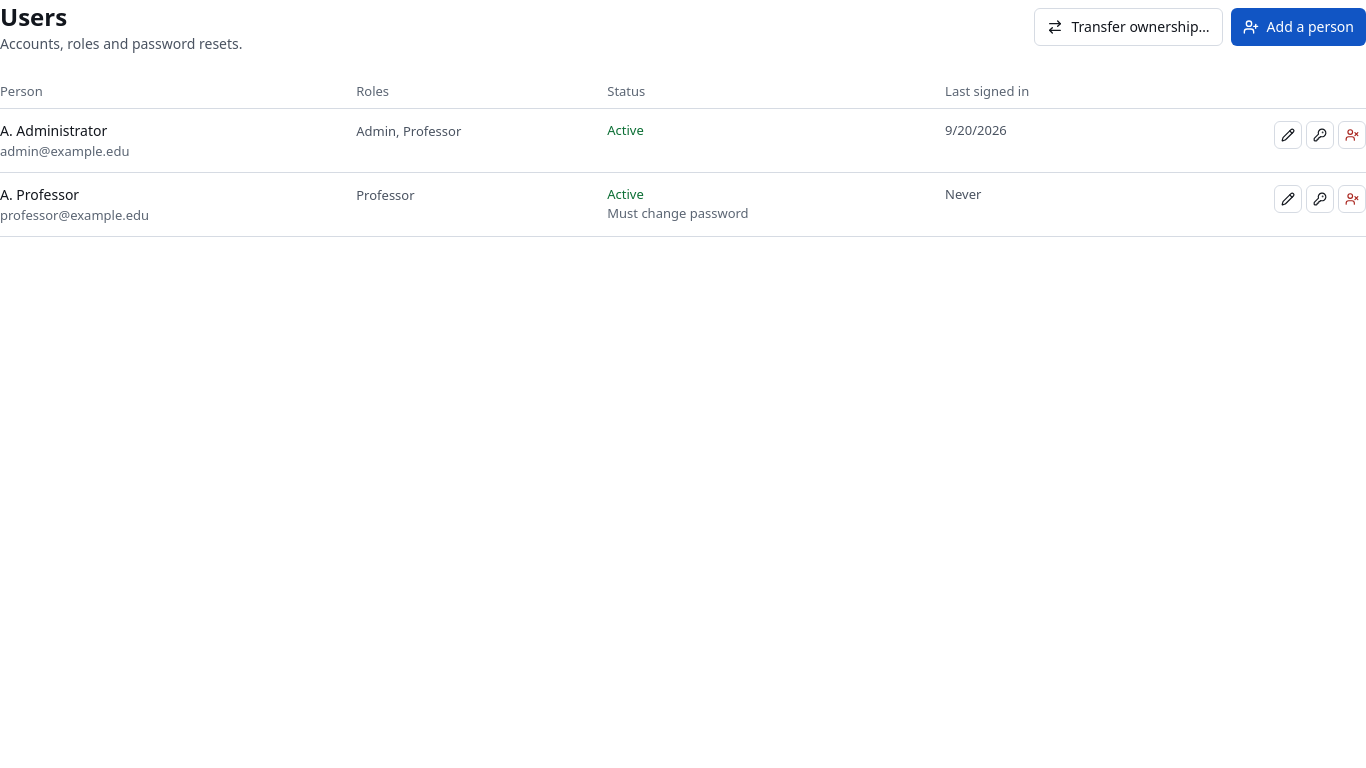
Scenario: the shell proxy as the only transport (R78, F9) › previews and commits an ownership transfer
Click the button "Transfer ownership…": x=1129, y=27 [1034,8,1223,46]
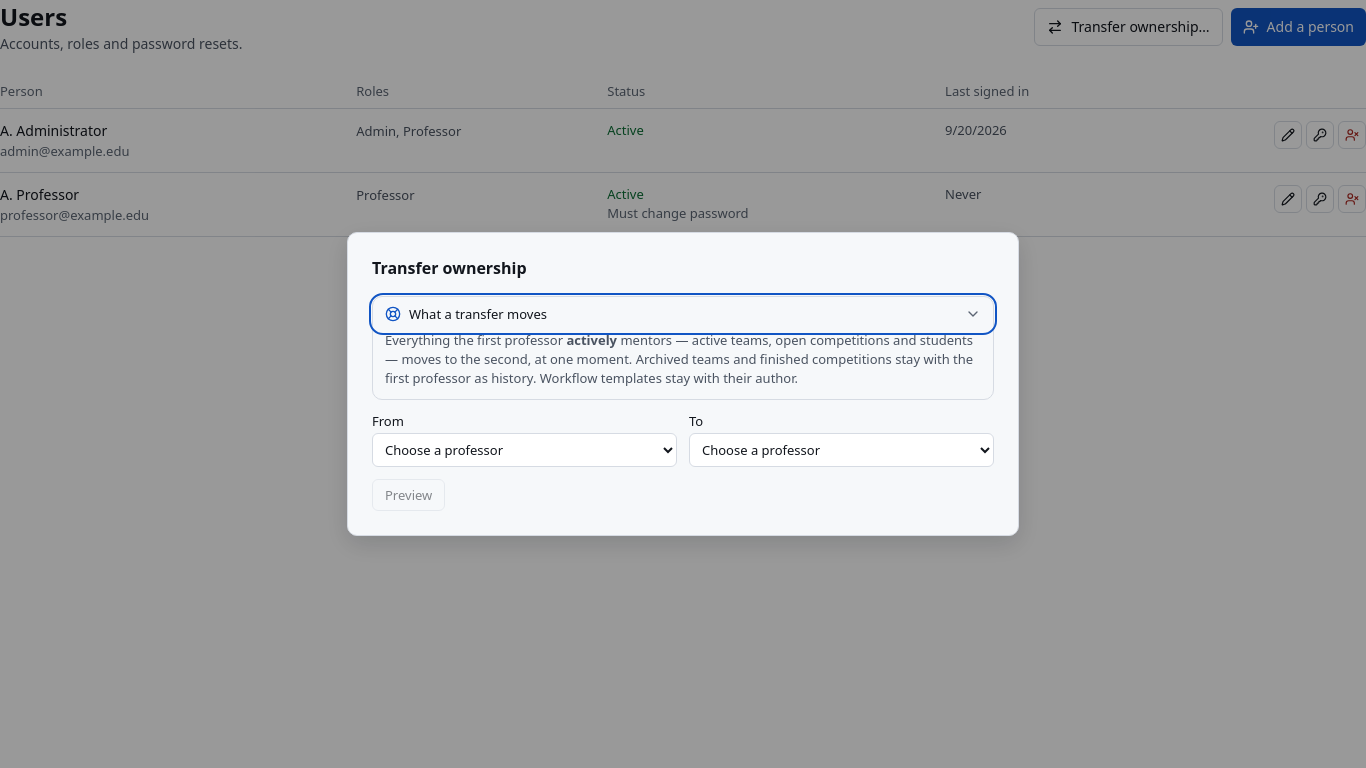
Select "A. Professor" in the dropdown labelled "From": x=524, y=450 [372,433,677,467]
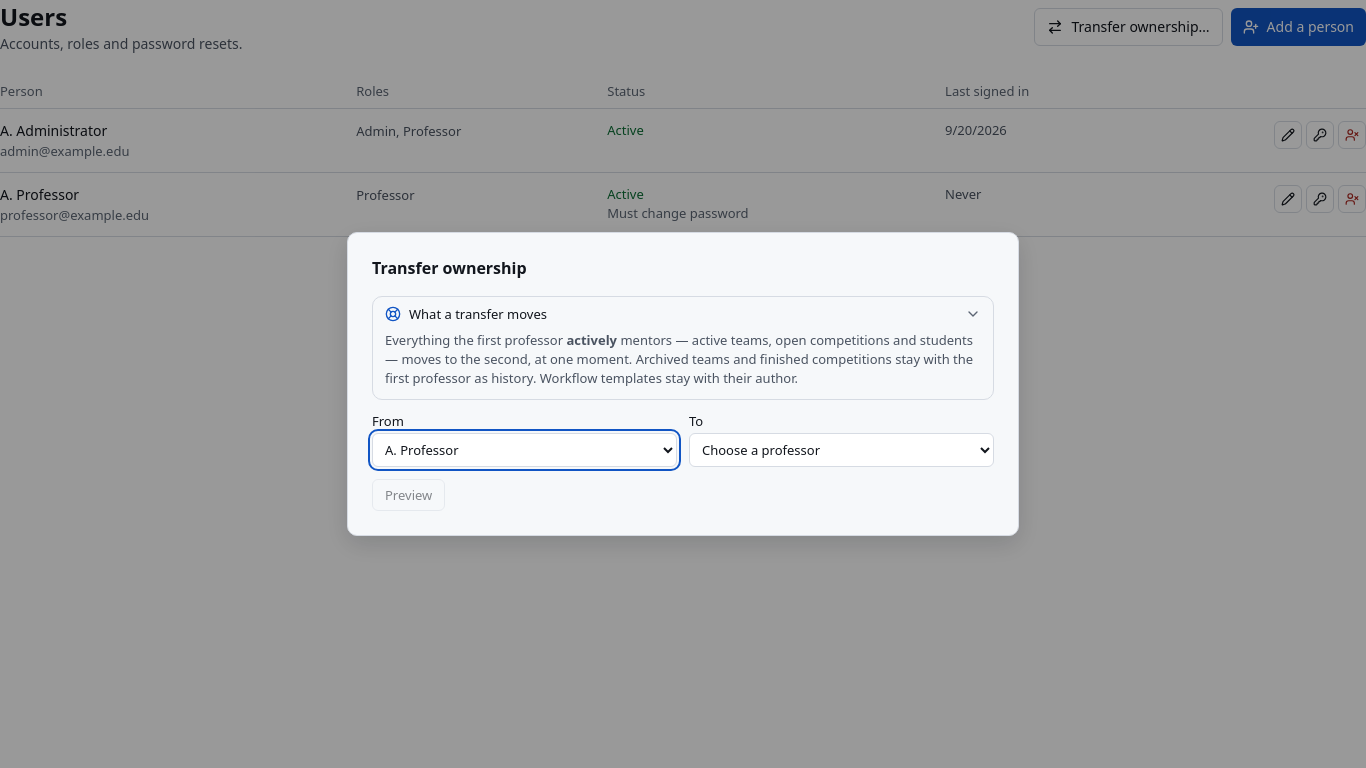
Select "A. Administrator" in the dropdown labelled "To": x=842, y=450 [689,433,994,467]
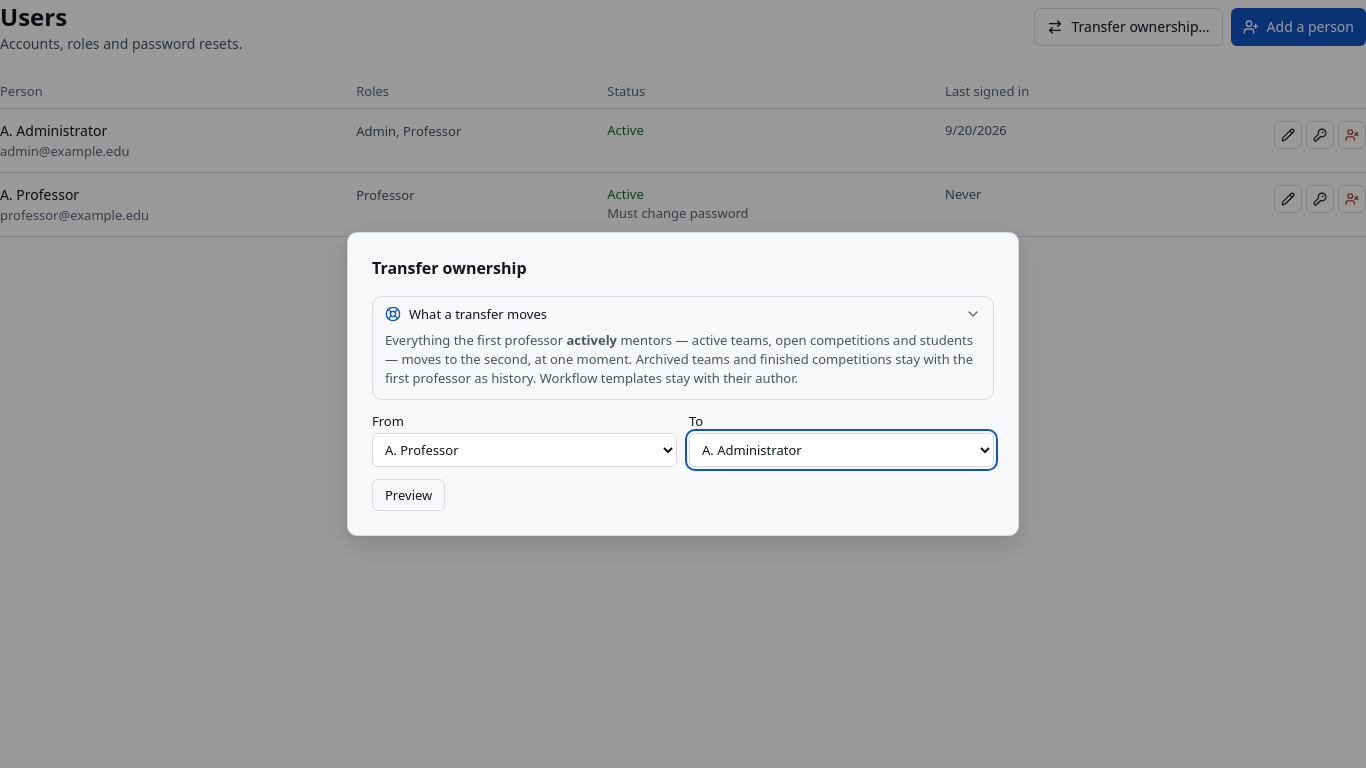
Click the button "Preview": x=409, y=495 [372,479,445,511]
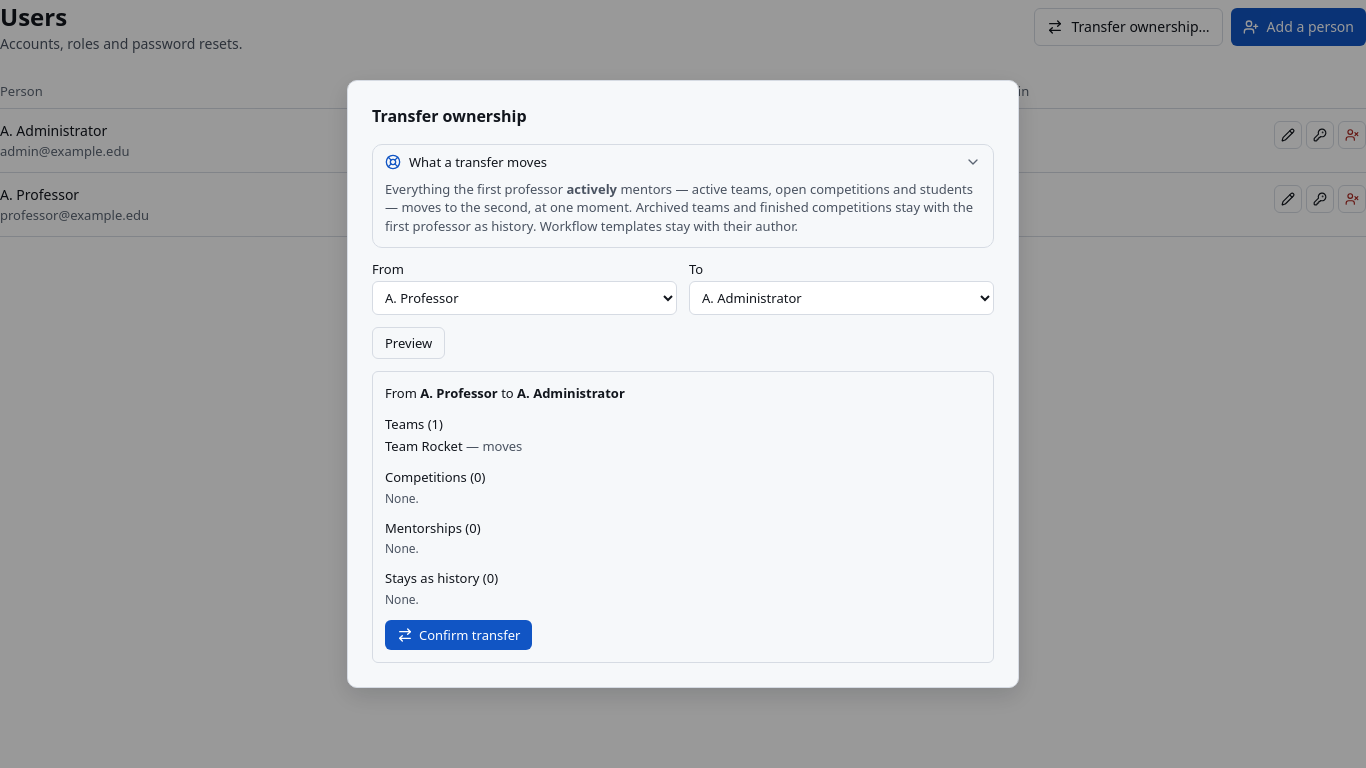
Click the button "Confirm transfer": x=459, y=635 [385,620,532,650]
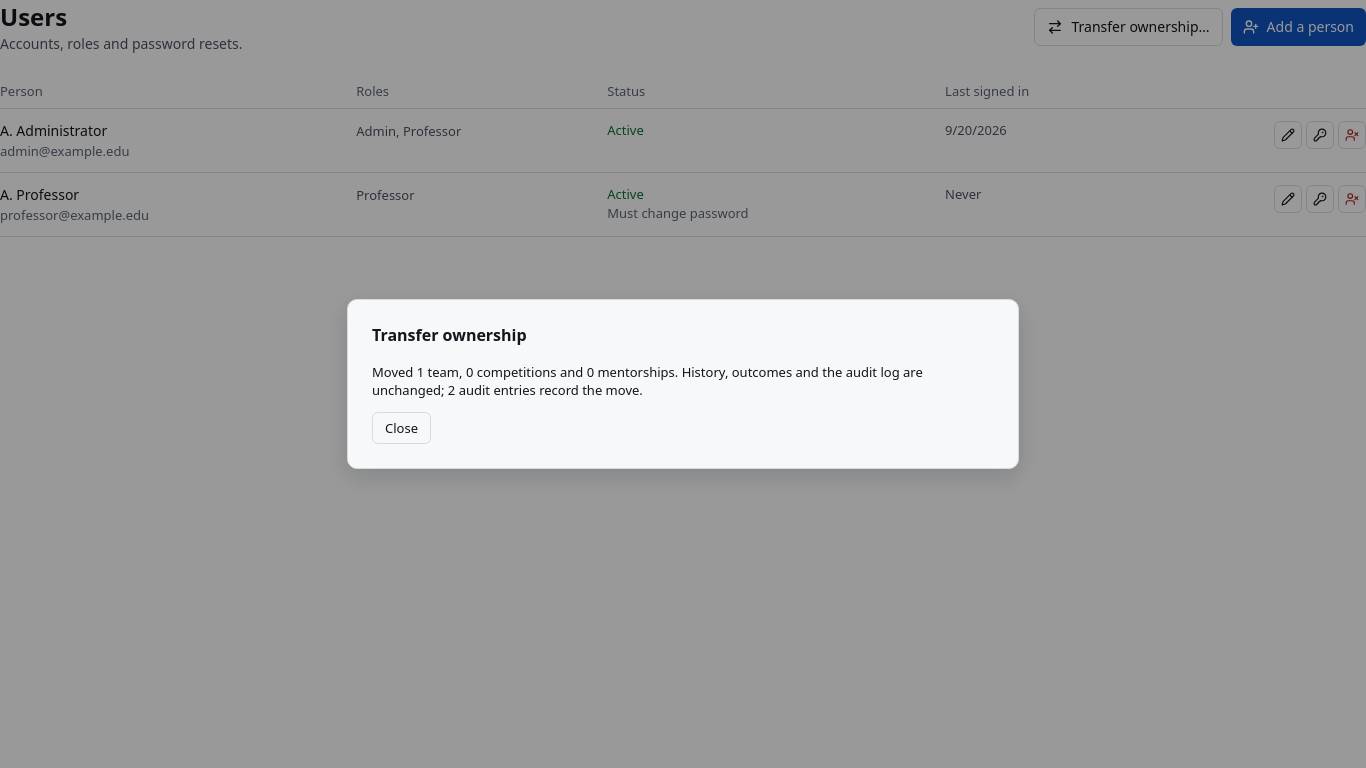
Result: the text "Moved 1 team" is shown at [372,363,994,400]
